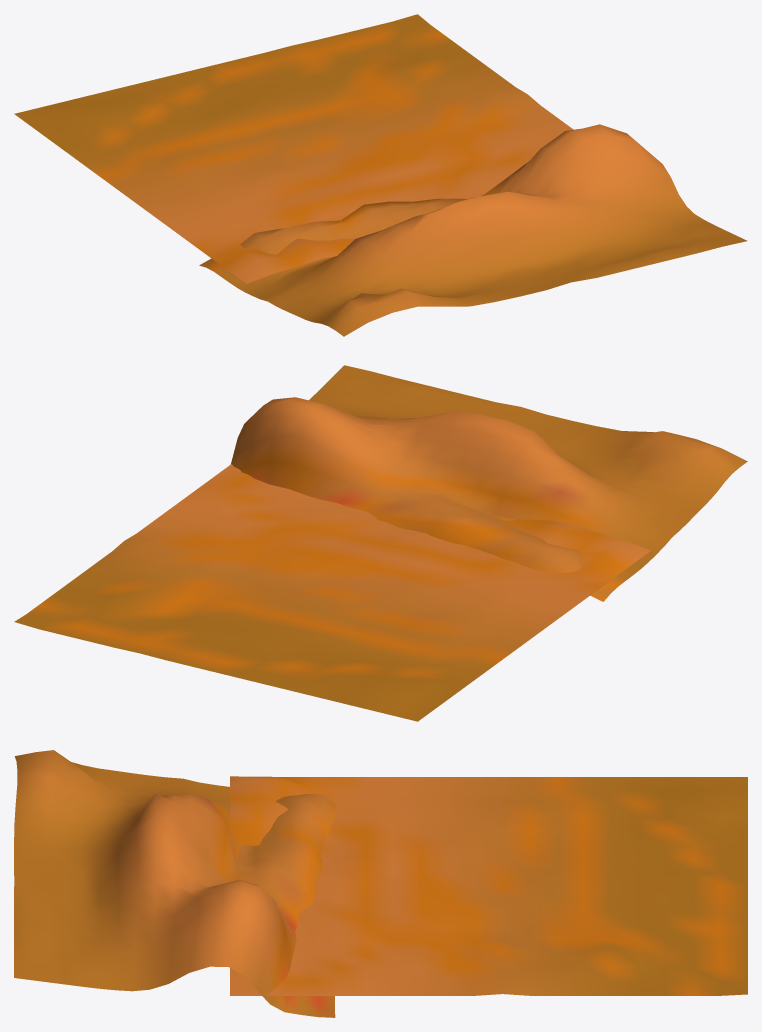
The model's file is ПЕСОК.fbx.
The picture shows the model from 3 angles, top to bottom: view 1: azimuth 30°, elevation 25°; view 2: azimuth 150°, elevation 25°; view 3: azimuth 270°, elevation 25°; orthographic projection. The views are drawn at different scales.
Parts seen in each view (by area): view 1: Plane, Plane.001; view 2: Plane, Plane.001; view 3: Plane, Plane.001.
Boxes of the visible parts, x1,y1,x2,y2 form: Plane: (14,14,573,283); Plane.001: (199,124,747,336); Plane: (14,464,650,721); Plane.001: (230,365,747,601); Plane: (230,776,747,995); Plane.001: (14,750,336,1017).
Size of the model in its own units: 1409 by 295 by 1977.
